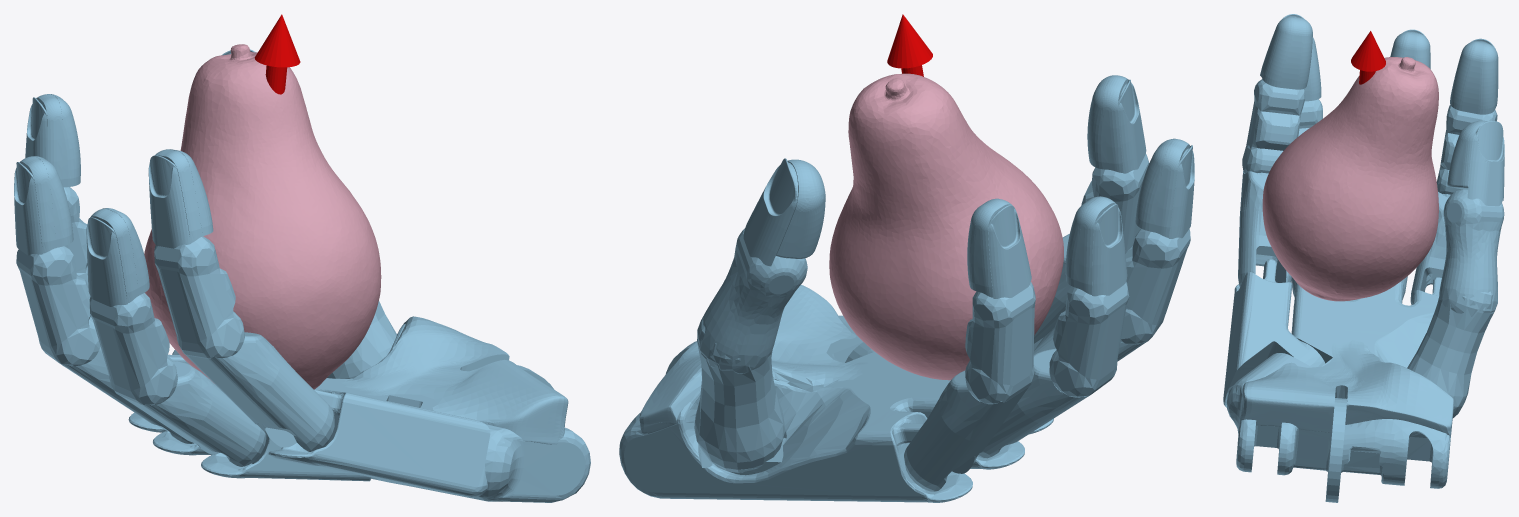
The picture shows the model from 3 angles, left to right: view 1: azimuth 30°, elevation 25°; view 2: azimuth 150°, elevation 25°; view 3: azimuth 270°, elevation 25°; orthographic projection. The views are drawn at different scales.
Parts seen in each view (by area): view 1: world, pear.stl; view 2: world, pear.stl; view 3: world, pear.stl.
Part boxes in pixels (x1,y1,x2,y2): world: [14, 14, 590, 502]; pear.stl: [144, 44, 381, 389]; world: [619, 14, 1194, 502]; pear.stl: [829, 73, 1063, 380]; world: [1223, 14, 1504, 502]; pear.stl: [1262, 57, 1438, 301].
Bounding box in the file's own units: 0.1634 × 0.1618 × 0.1048.
